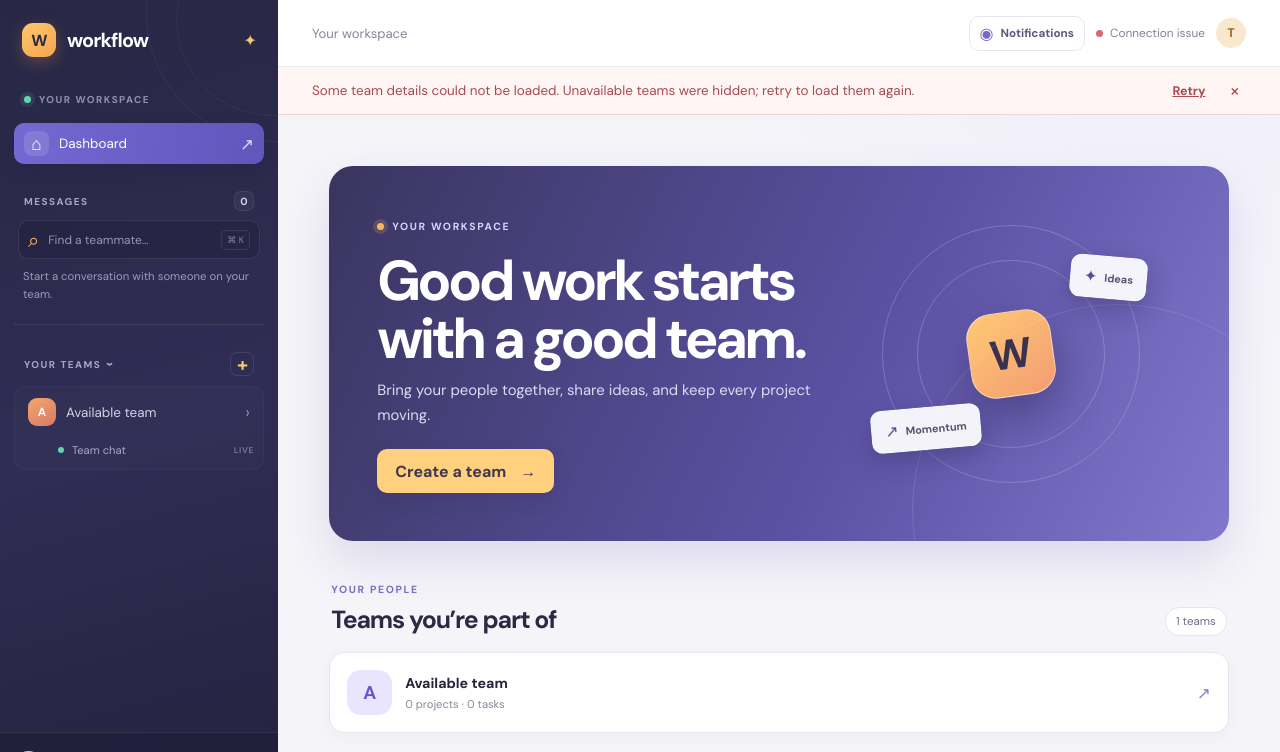
Scenario: App workspace loading › lets a team member view the team's member list
The image size is (1280, 752).
Click the button "A Available team 0 projects · 0 tasks ↗": (370, 693) [329, 652, 1229, 733]
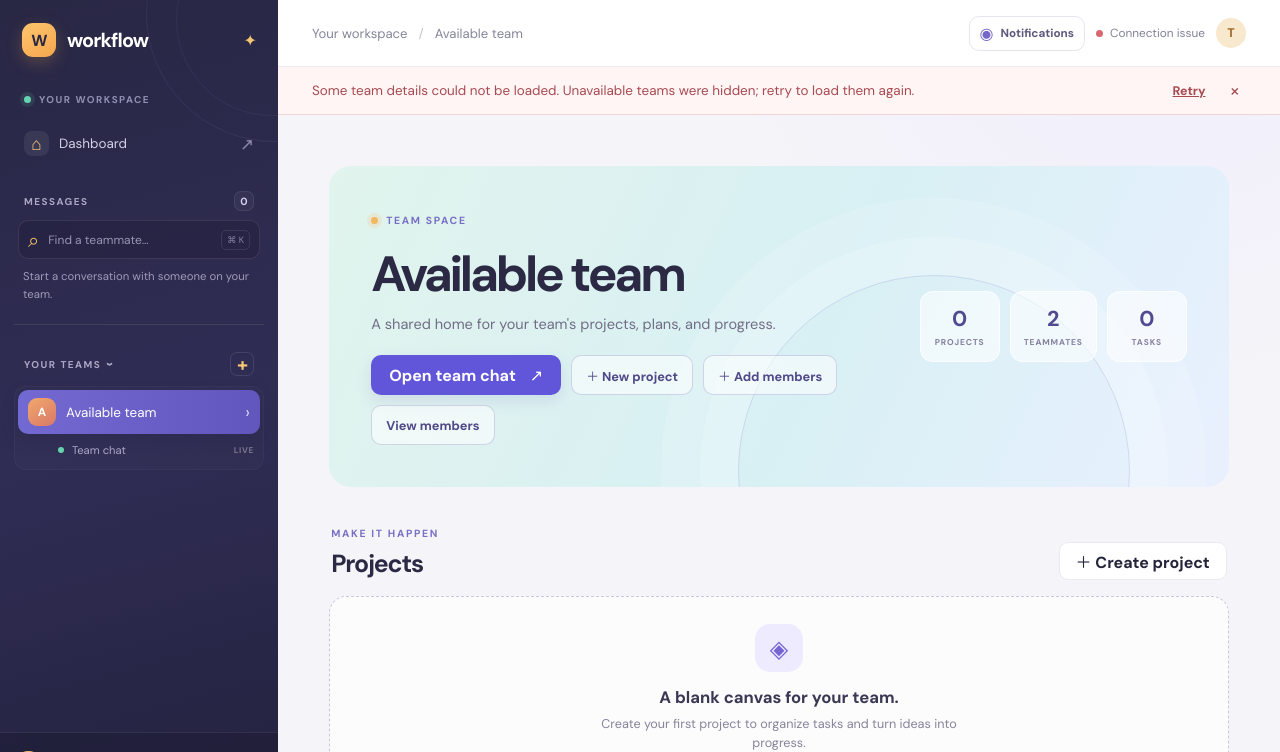
Click the button "View members": (433, 426) [371, 406, 495, 446]
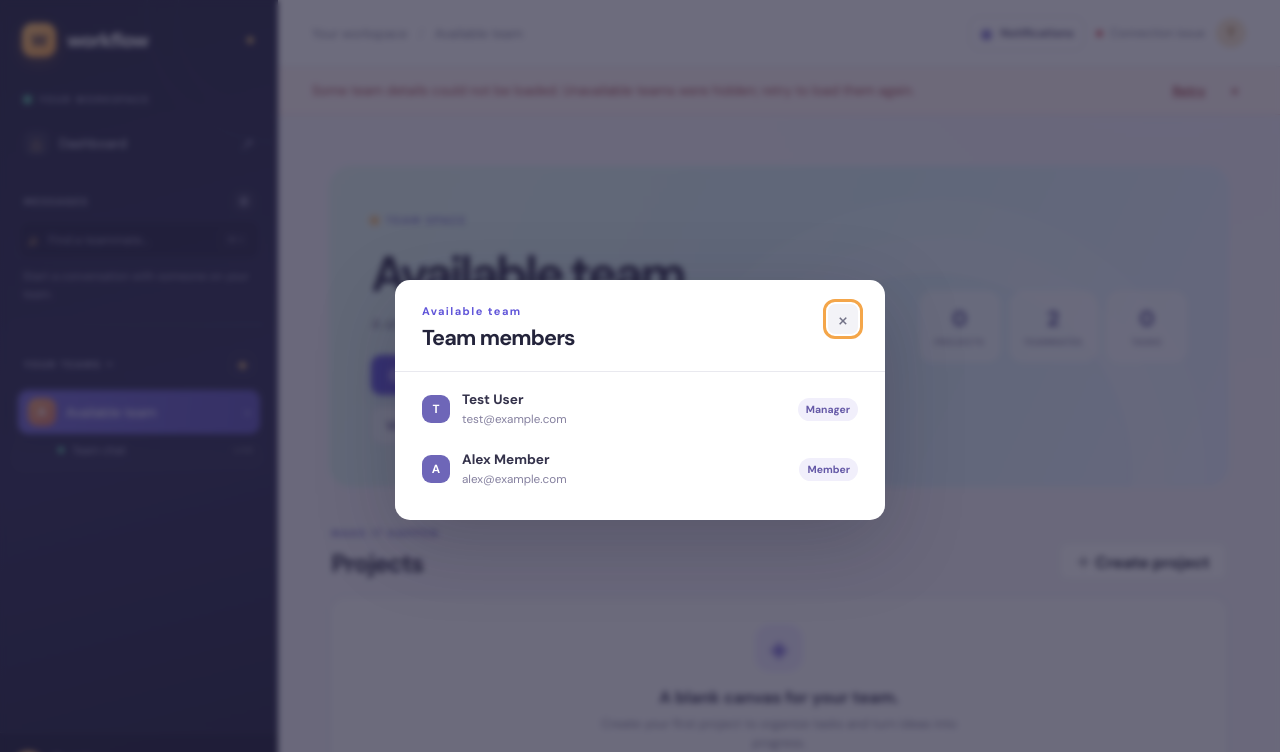
Expected: the dialog "Team members" is shown, [395, 280, 885, 520]
Expected: the text "Alex Member" is shown, [462, 451, 550, 468]
Expected: the text "alex@example.com" is shown, [462, 471, 566, 487]
